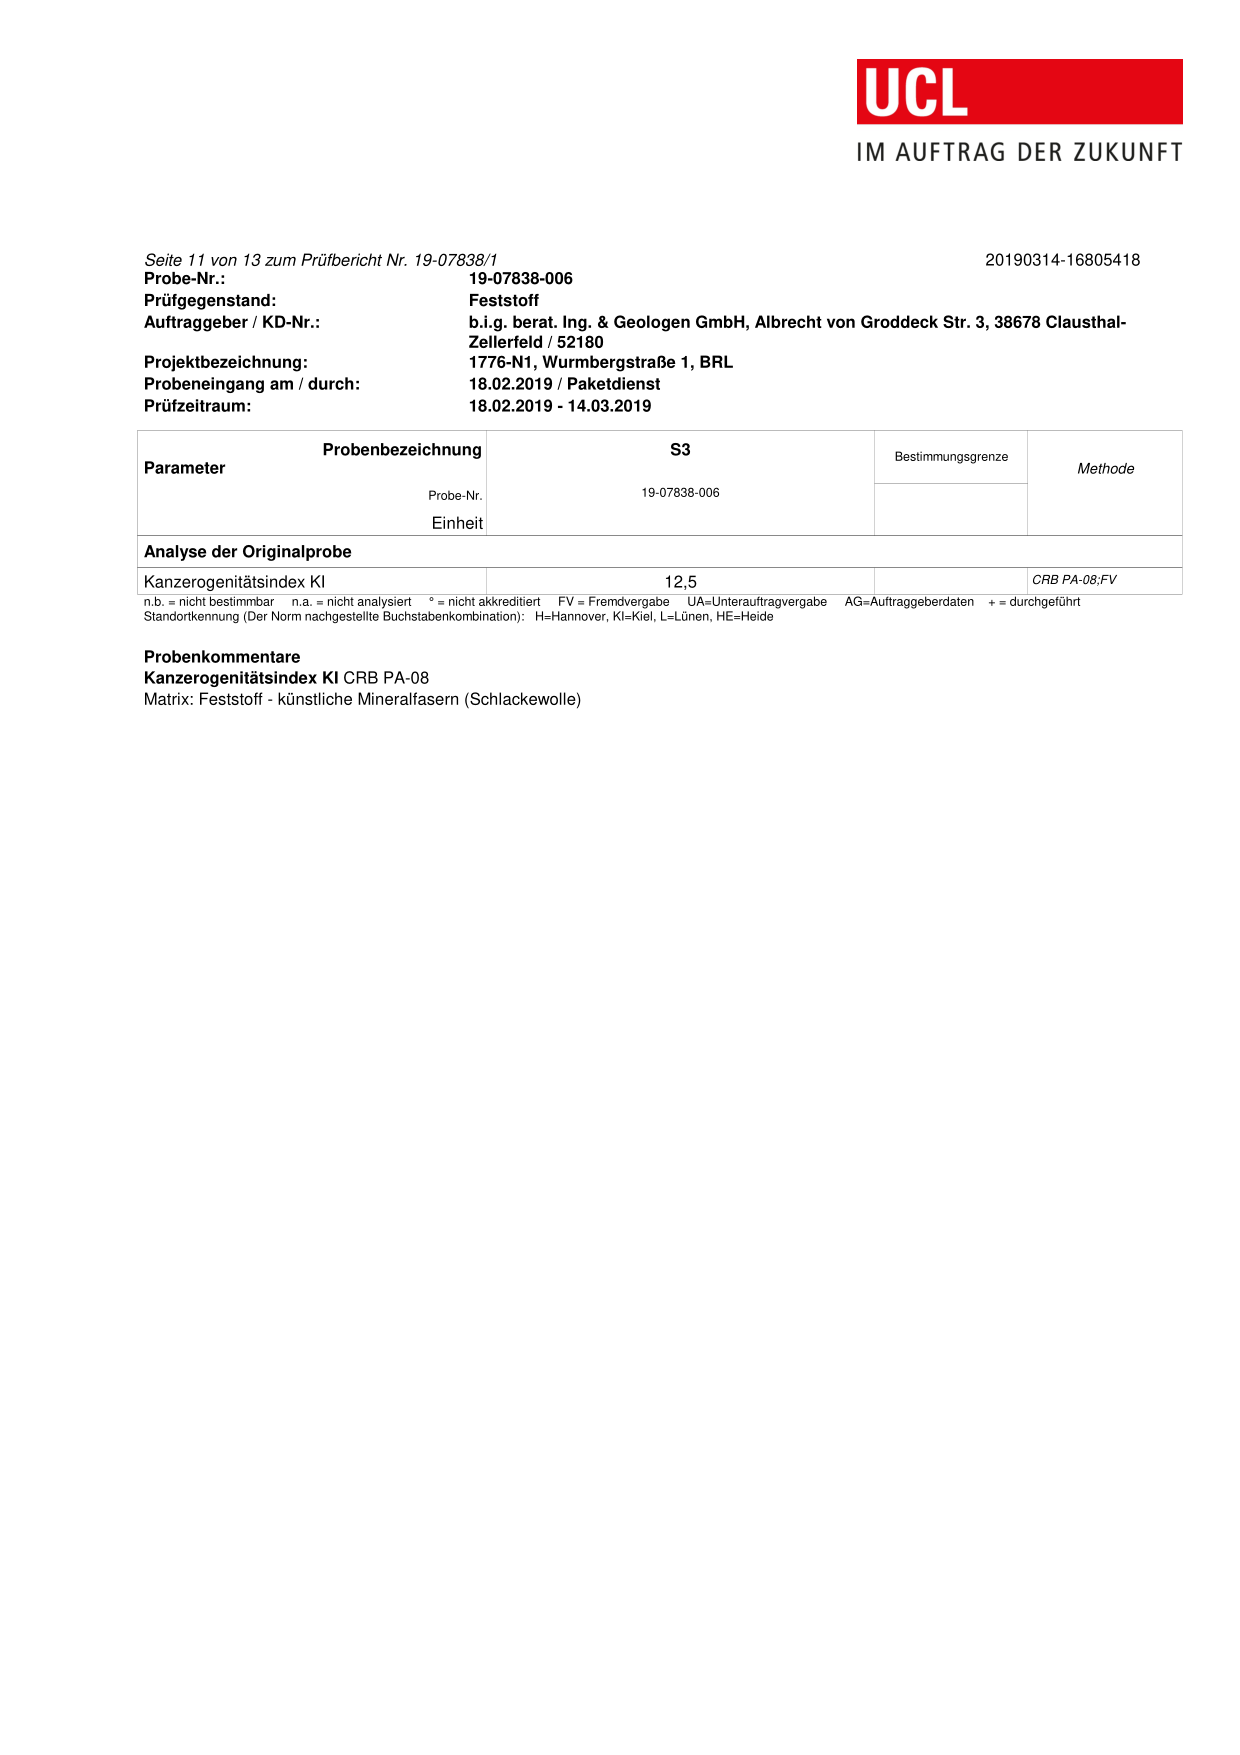table: (130, 562, 1180, 594)
